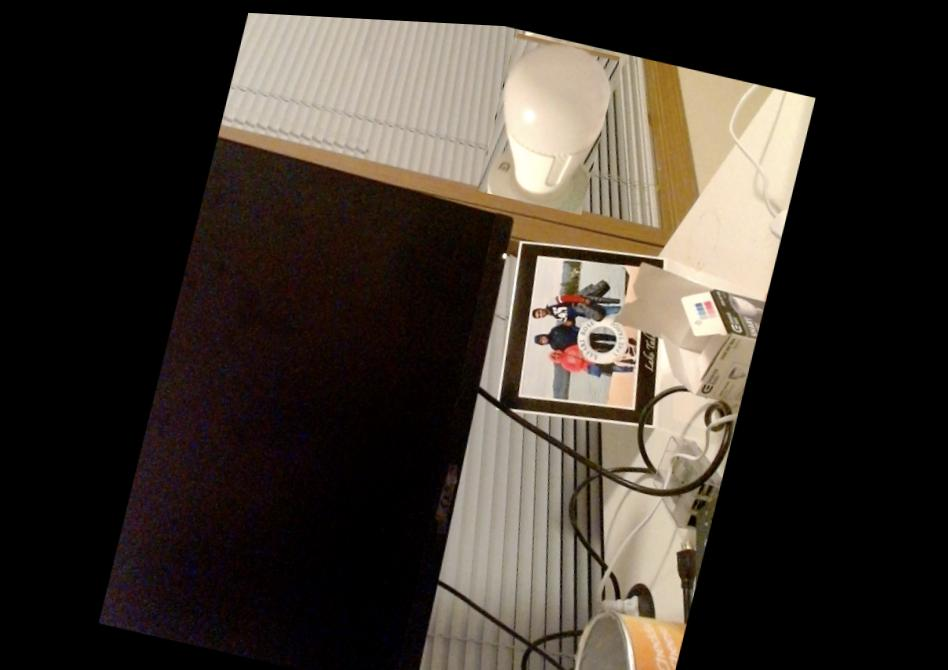Fan: (478, 25, 621, 210)
